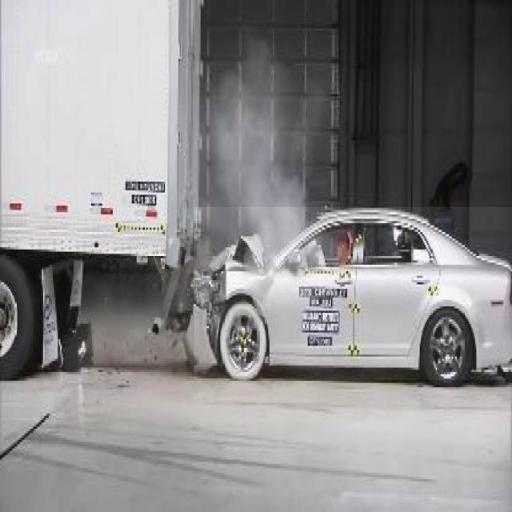小汽车: (2, 0, 186, 379), (194, 207, 512, 380)
